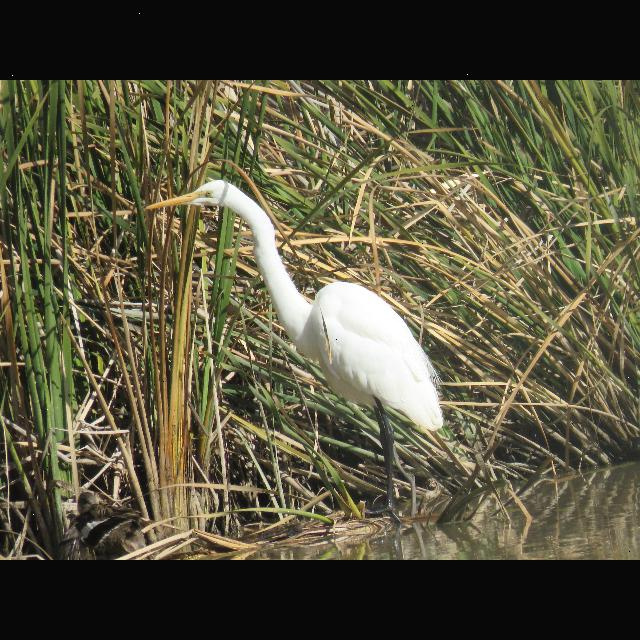egret: (145, 180, 439, 530)
